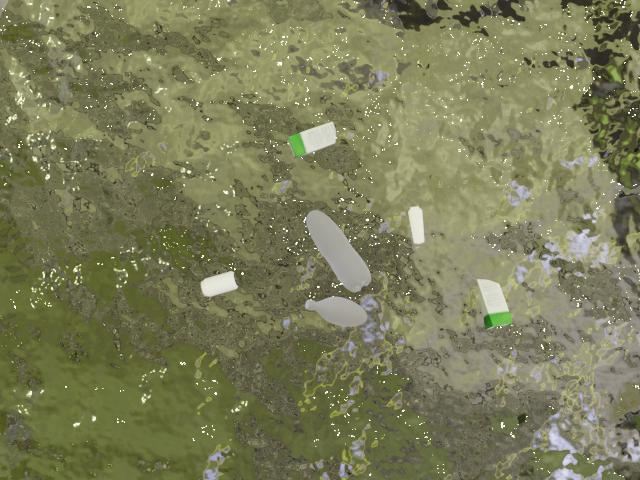Metal: (193, 263, 249, 306), (398, 201, 431, 244)
Plastic: (304, 206, 384, 296), (298, 299, 395, 334)
Trash: (468, 264, 528, 345), (276, 110, 350, 168)
